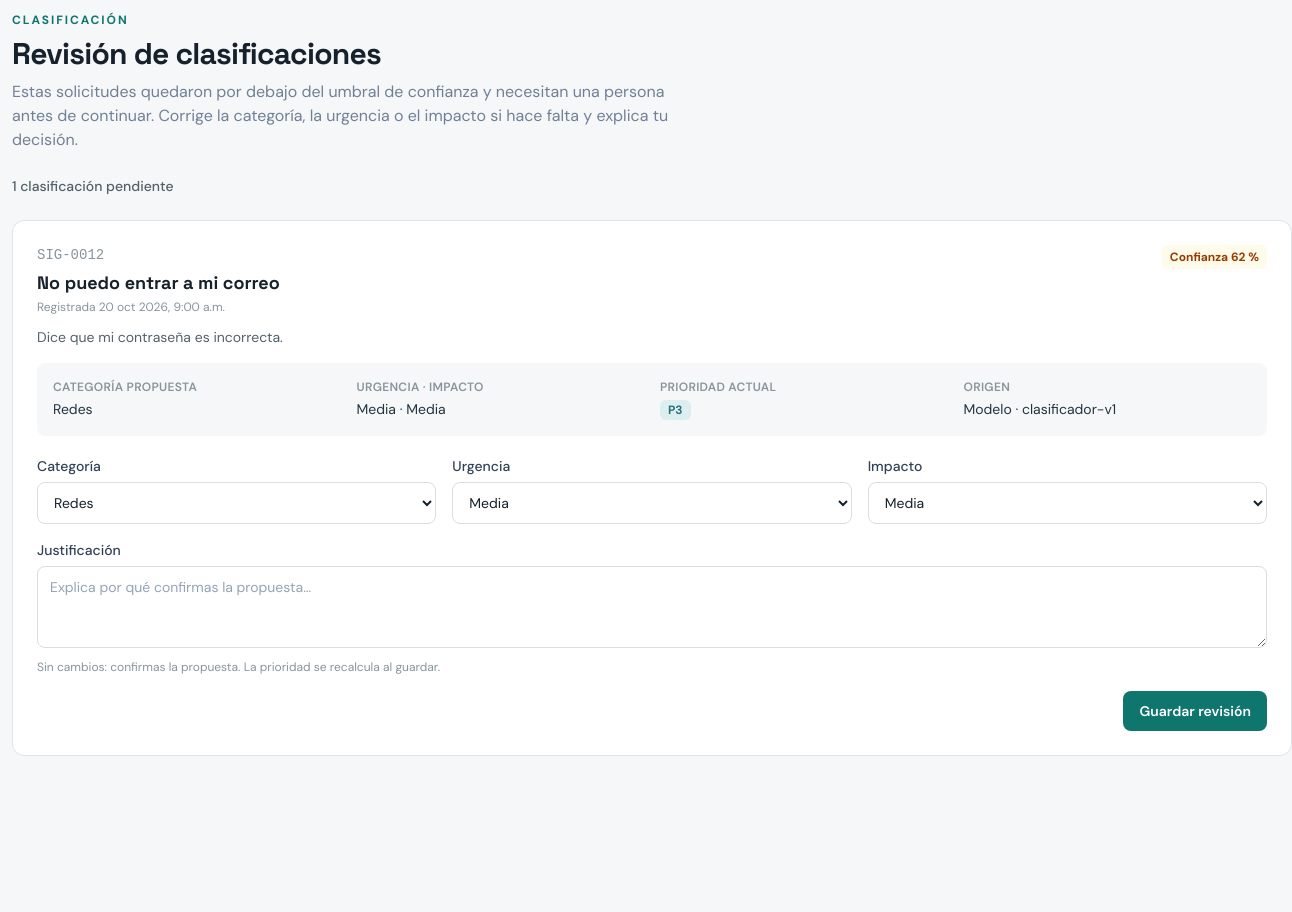
RevisionPage: revisión de clasificaciones (S4-15, HU-02.2) › exige la justificación y no envía nada sin ella
This screenshot has width=1292, height=912.
Click the button "Guardar revisión": (1195, 711) [1123,691,1267,731]
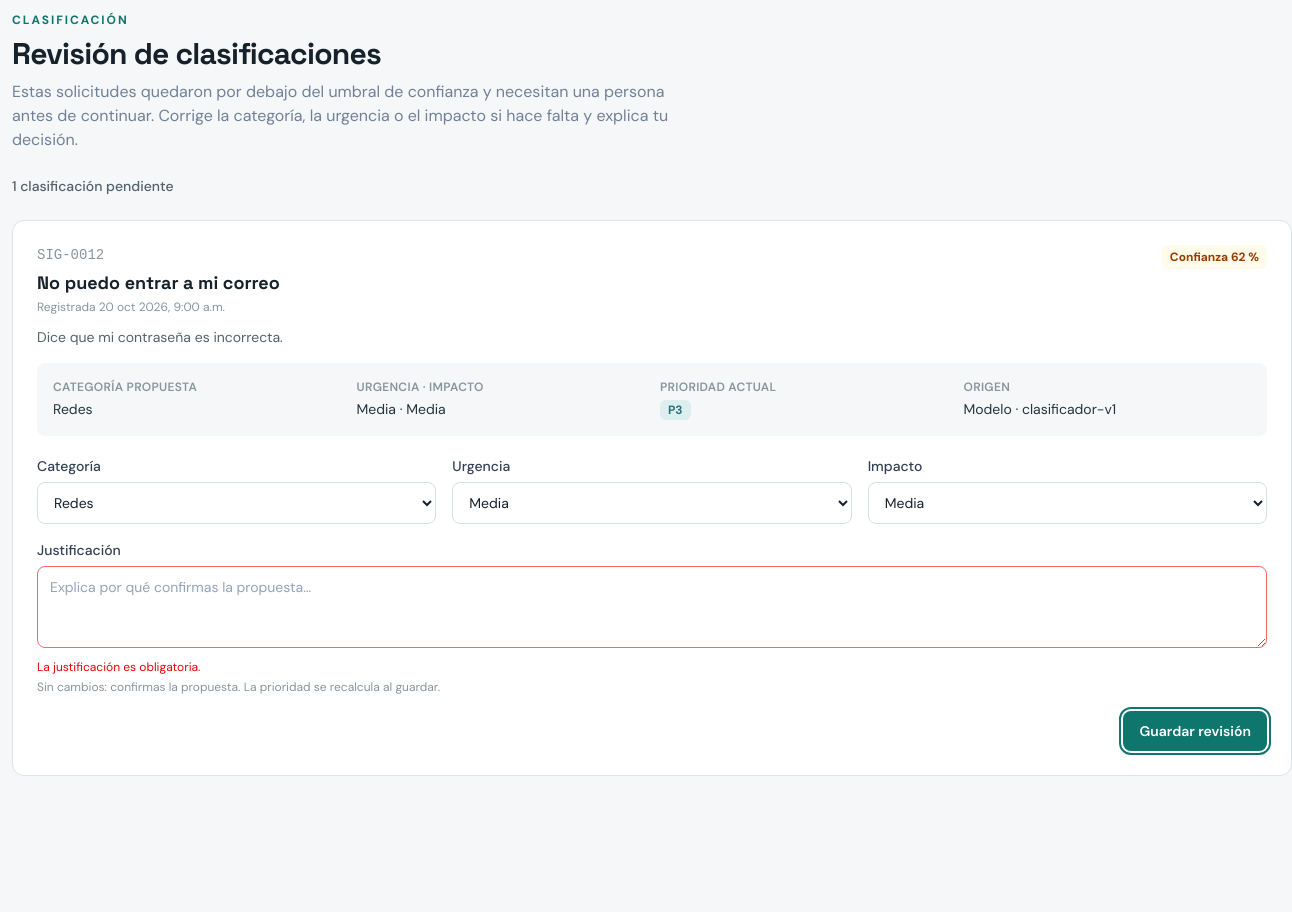
Check: the text "La justificación es obligatoria." is shown, box [37,659,200,675]
